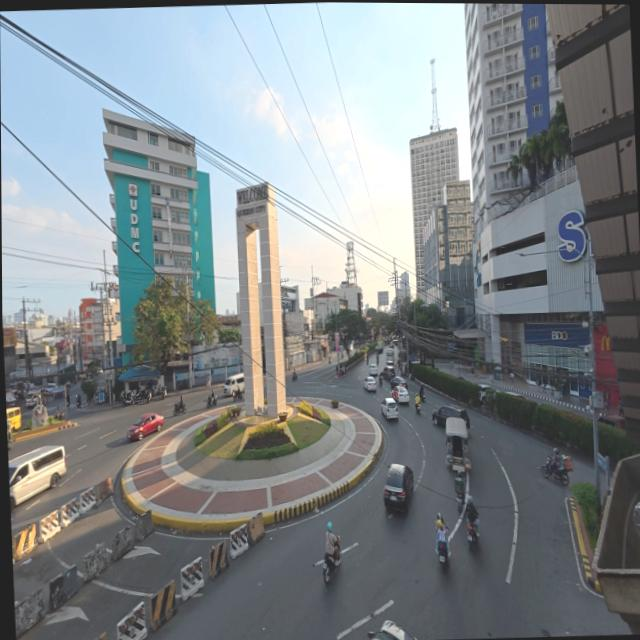Jeepneys: (446, 417, 470, 471)
bus: (387, 348, 395, 363)
car: (384, 464, 414, 510), (127, 413, 163, 440), (368, 621, 416, 639), (432, 406, 470, 428), (381, 398, 398, 420), (599, 415, 625, 429), (391, 384, 409, 404), (479, 385, 495, 403), (390, 377, 408, 389), (364, 377, 377, 391), (382, 366, 395, 380), (506, 392, 527, 400), (45, 383, 57, 393), (370, 364, 378, 377), (387, 358, 394, 366)
motorcycle: (323, 536, 341, 583), (542, 455, 570, 485), (455, 472, 465, 513), (467, 520, 479, 550), (437, 541, 449, 570), (134, 386, 152, 403), (173, 401, 186, 416), (153, 386, 167, 399), (122, 392, 134, 405), (206, 394, 216, 409), (457, 492, 463, 513), (74, 394, 82, 409), (233, 390, 243, 401), (55, 408, 64, 420), (420, 389, 425, 402), (415, 403, 421, 413), (292, 372, 297, 381), (378, 375, 382, 386), (376, 355, 379, 365)
trucks: (376, 341, 384, 354)
vans: (8, 446, 67, 512), (225, 373, 245, 395), (6, 407, 21, 430), (26, 391, 40, 407)
